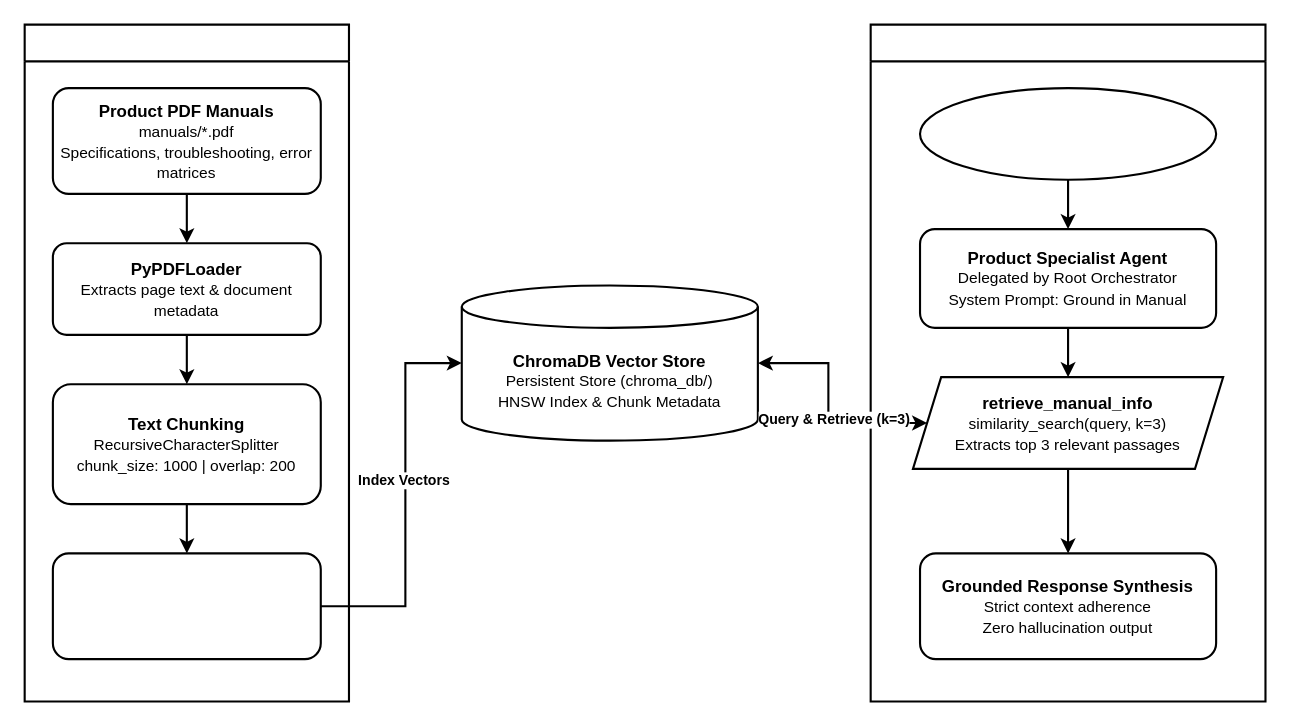
Some shapes in this 1292 by 728 pixel diagram are drawn without their labels. Each missing label, with the box of its shape:
Customer Tech Query "How do I reset Quantum Processor 9?": (918, 86, 1217, 180)
OpenAI Embeddings Vector embedding API Converts chunks to dense vectors: (51, 552, 321, 660)
Phase 1: Ingestion Pipeline: (23, 23, 349, 702)
Phase 2: Runtime Retrieval & Generation: (869, 23, 1266, 702)
